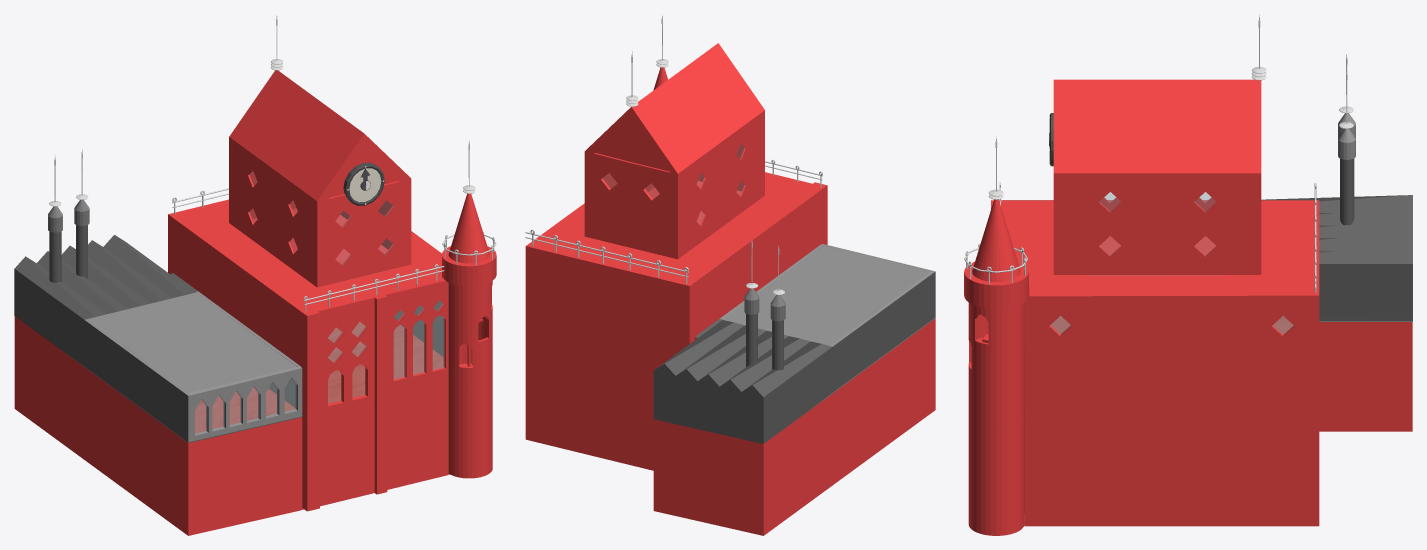
The model's file is lintw_castle 1.fbx.
3 renders of one model, left to right at view 1: azimuth 30°, elevation 25°; view 2: azimuth 150°, elevation 25°; view 3: azimuth 270°, elevation 25°, orthographic. The views are drawn at different scales.
Visible parts, largest first — view 1: castle, extend, glass, fence, clock, cable; view 2: castle, extend, fence, cable, glass; view 3: castle, extend, glass, fence, cable.
Boxes of the visible parts, bbox=[...] form: castle: bbox=[14, 70, 496, 442]; extend: bbox=[14, 316, 492, 535]; glass: bbox=[195, 171, 444, 434]; fence: bbox=[172, 188, 496, 312]; clock: bbox=[343, 162, 384, 205]; cable: bbox=[49, 16, 475, 206]; castle: bbox=[525, 43, 935, 443]; extend: bbox=[525, 318, 935, 535]; fence: bbox=[525, 159, 822, 283]; cable: bbox=[626, 15, 784, 294]; glass: bbox=[603, 144, 744, 225]; castle: bbox=[964, 79, 1412, 426]; extend: bbox=[968, 322, 1412, 535]; glass: bbox=[1050, 192, 1293, 334]; fence: bbox=[964, 182, 1316, 292]; cable: bbox=[988, 14, 1353, 199].
Bounding box in the file's own units: 19.21 × 20.92 × 24.08.
